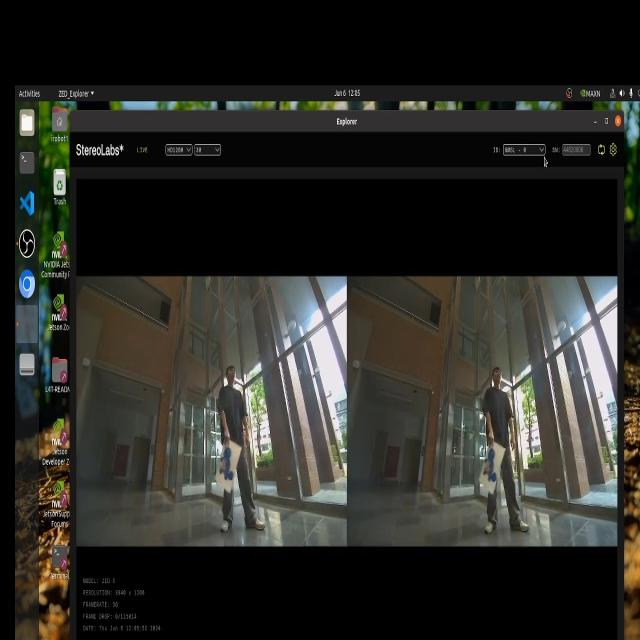blue: (481, 446, 502, 490), (217, 439, 234, 480)
